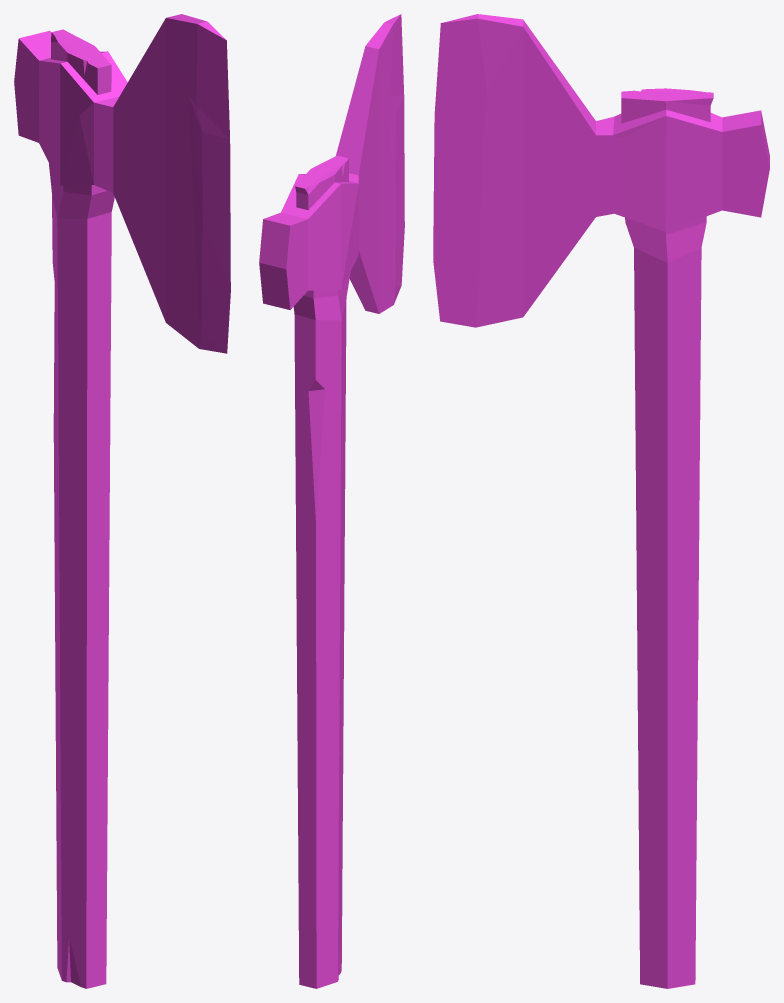
File: SM_Axe_Hewing_Fantasy.fbx
3 views of the same model, side by side, from view 1: azimuth 30°, elevation 25°; view 2: azimuth 150°, elevation 25°; view 3: azimuth 270°, elevation 25° (orthographic). The views are drawn at different scales.
Visible parts, largest first — view 1: SM_Axe_Hewing_Fantasy; view 2: SM_Axe_Hewing_Fantasy; view 3: SM_Axe_Hewing_Fantasy.
Part boxes in pixels (x1,y1,x2,y2): SM_Axe_Hewing_Fantasy: (14,14,230,988); SM_Axe_Hewing_Fantasy: (259,14,404,988); SM_Axe_Hewing_Fantasy: (433,14,769,988).
Bounding box in the file's own units: 0.0375 × 0.7246 × 0.2272.
